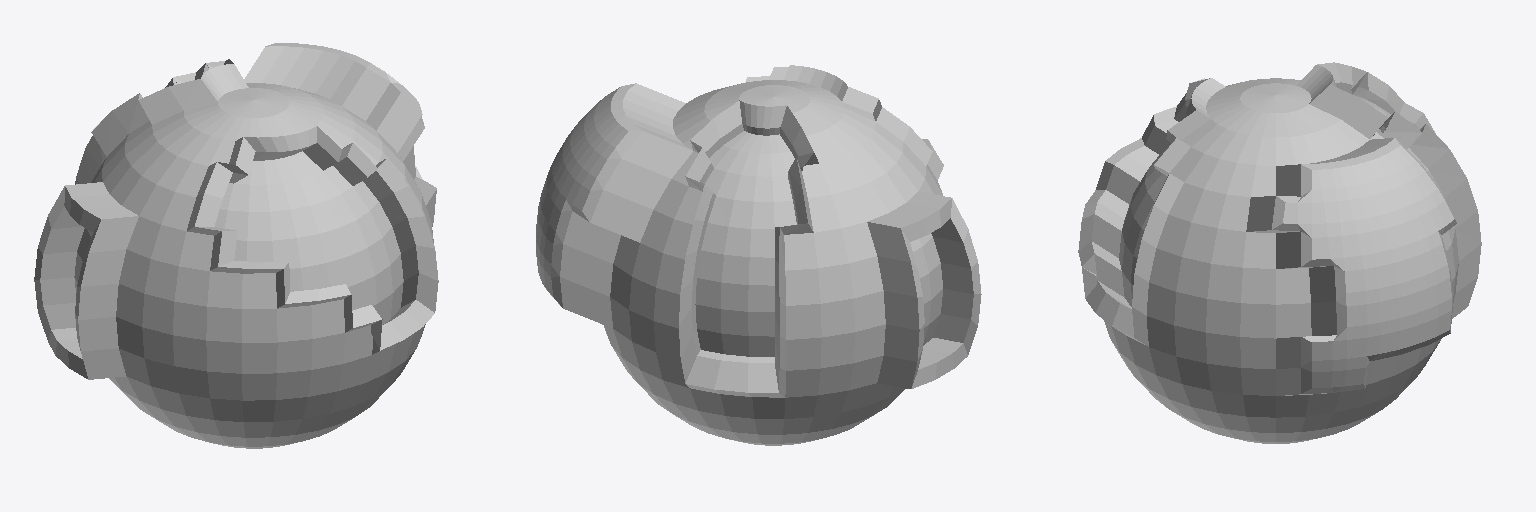
File: planet2.obj
3 views of the same model, side by side, from view 1: azimuth 30°, elevation 25°; view 2: azimuth 150°, elevation 25°; view 3: azimuth 270°, elevation 25° (orthographic).
Visible parts, largest first — view 1: Sphere; view 2: Sphere; view 3: Sphere.
Part boxes in pixels (x1,y1,x2,y2): Sphere: (34, 43, 438, 448); Sphere: (536, 65, 981, 445); Sphere: (1078, 62, 1481, 443).
Bounding box in the file's own units: 10.36 × 8.77 × 9.25.